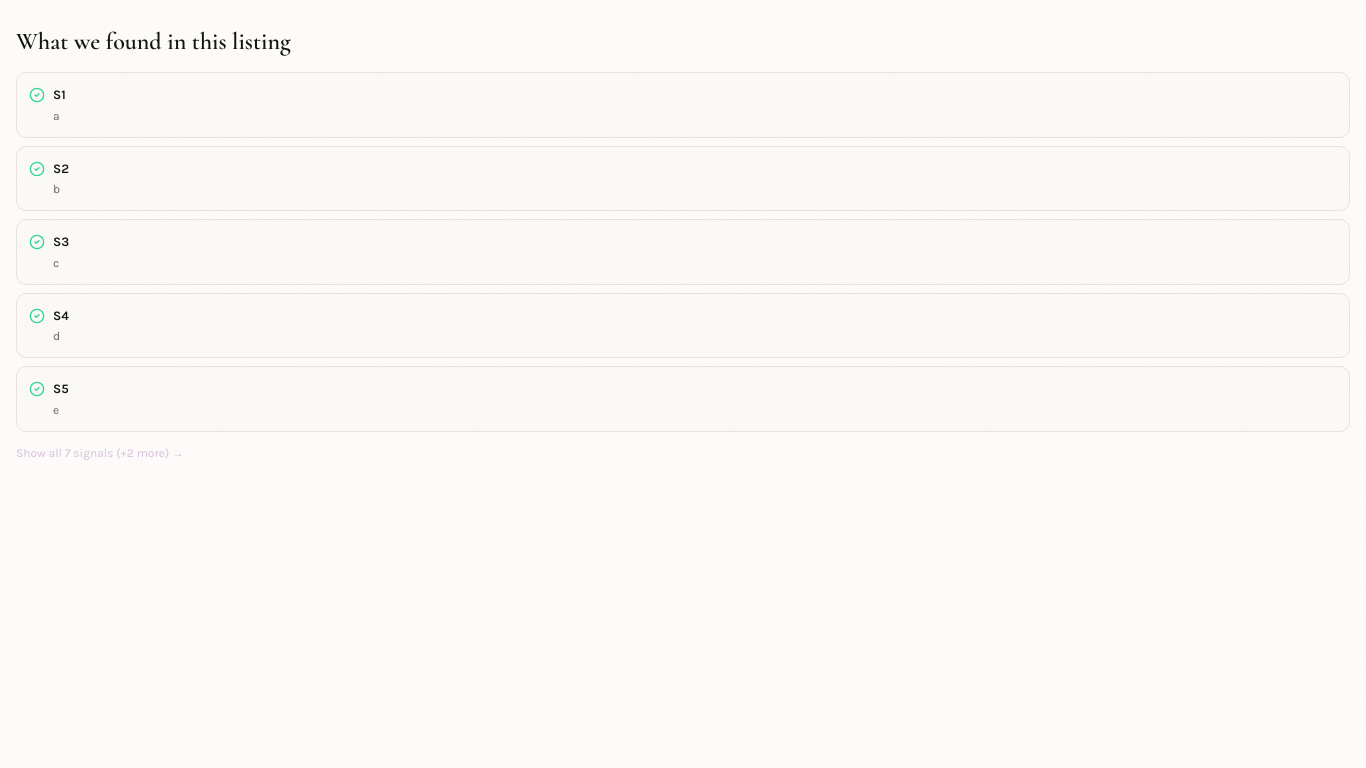
it: SignalsDetectedBlock › collapses positive signals past 5
Expected: the text "S6" is not shown
Click the button "Show all 7 signals (+2 more) →": (100, 452) [16, 444, 184, 462]
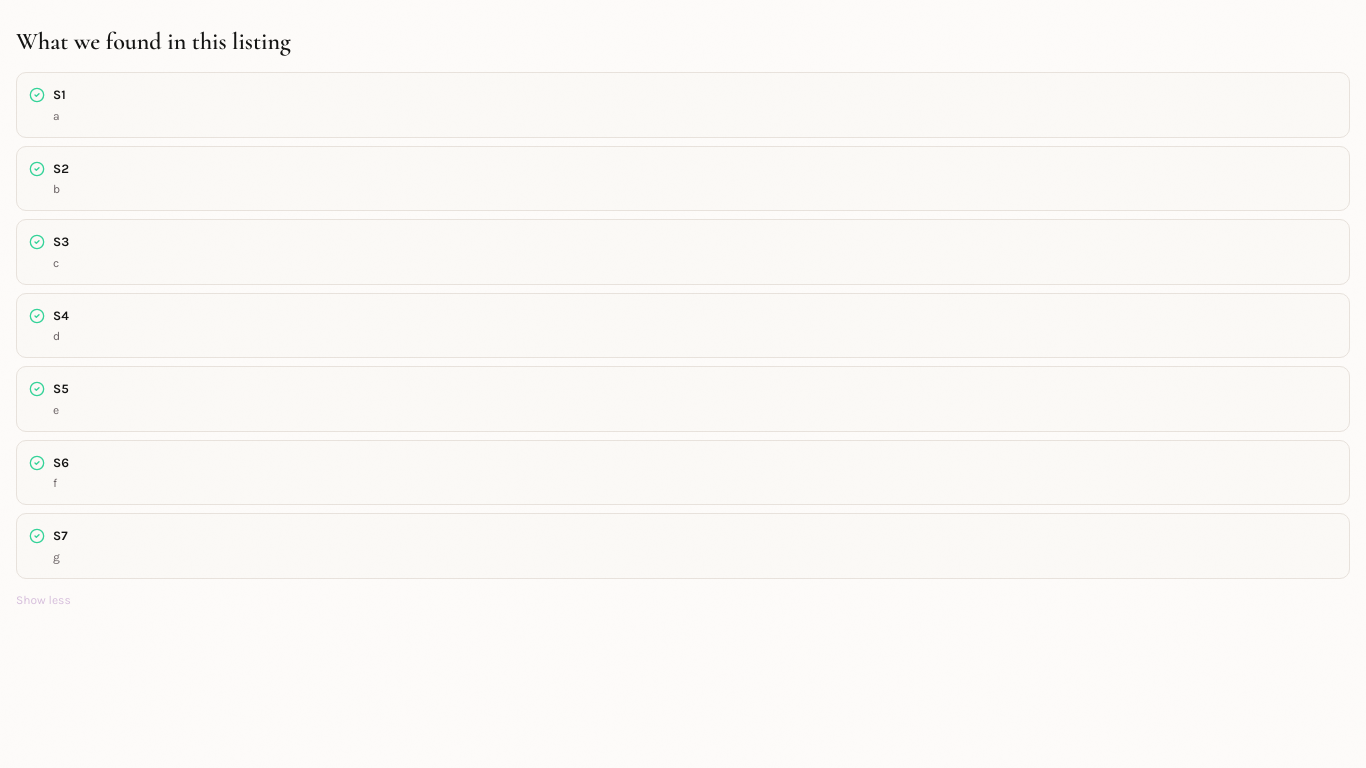
Expected: the text "S6" is shown, [53, 454, 69, 470]
